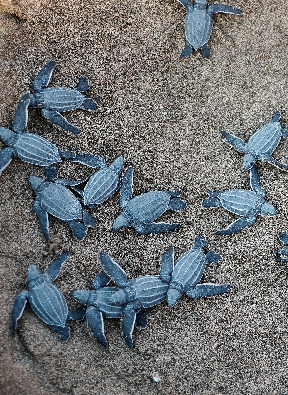turtle: (98, 242, 172, 349), (9, 251, 86, 346), (1, 98, 76, 186), (69, 270, 149, 347), (21, 59, 100, 136), (158, 237, 232, 310), (112, 164, 187, 235), (202, 170, 279, 239), (26, 172, 101, 242), (220, 111, 288, 173), (70, 146, 130, 212)
